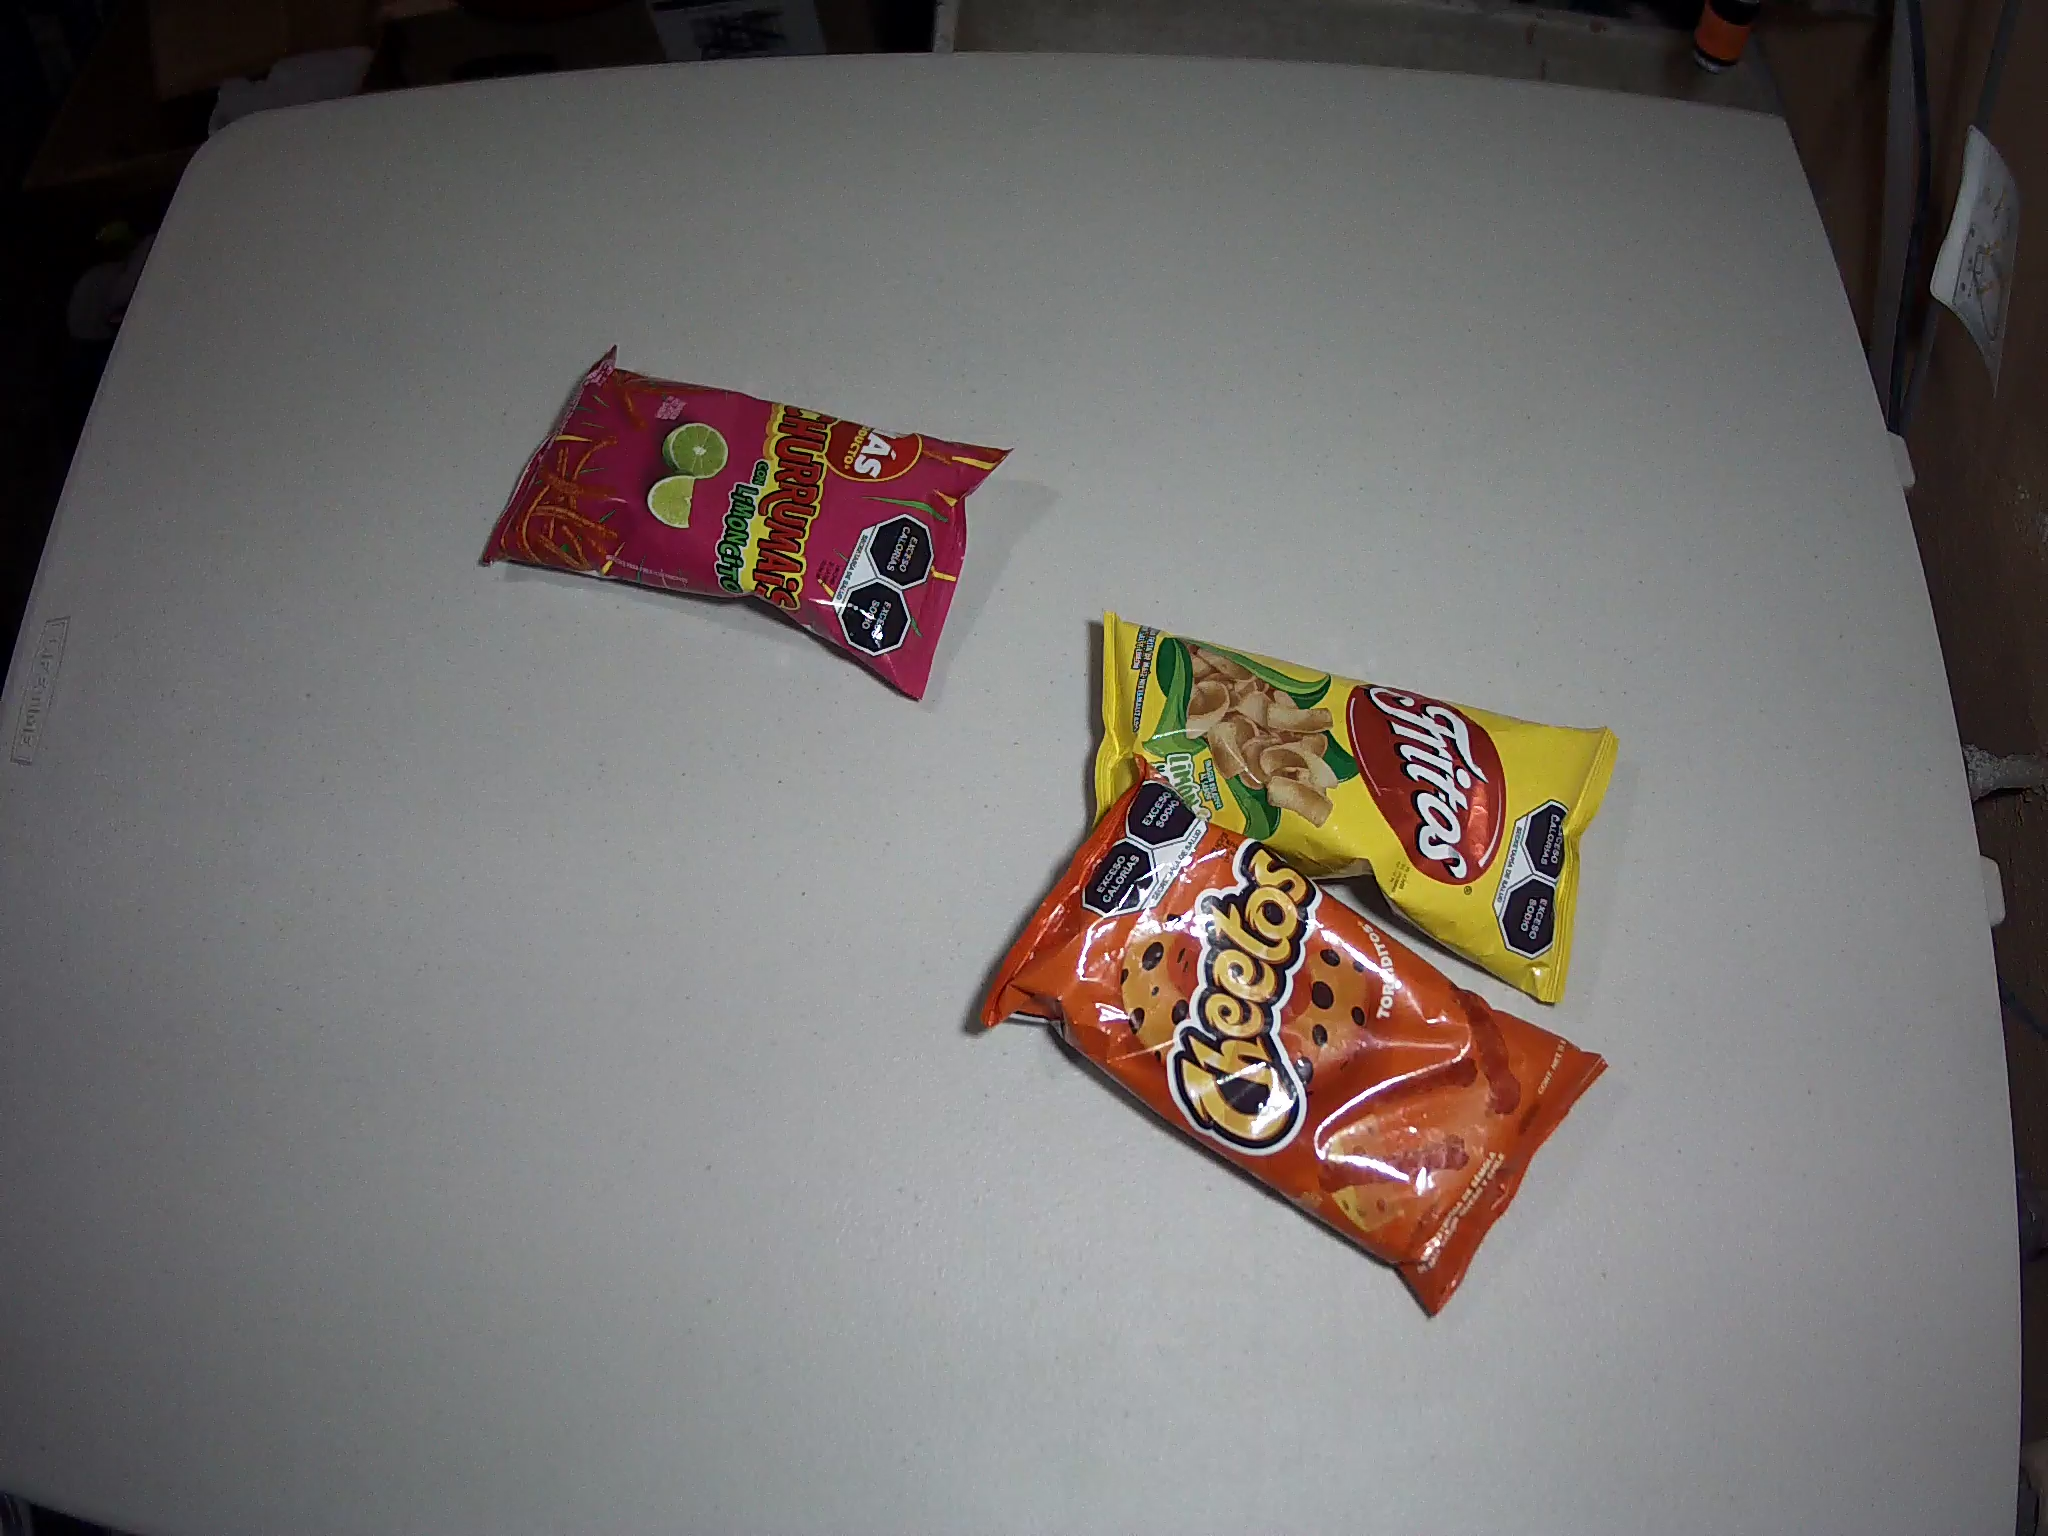CheetosTorciditos_55_F: (976, 753, 1613, 1317)
Churrumais_70_F: (477, 347, 1018, 707)
FritosSalLimon_65_F: (1092, 610, 1617, 1007)
